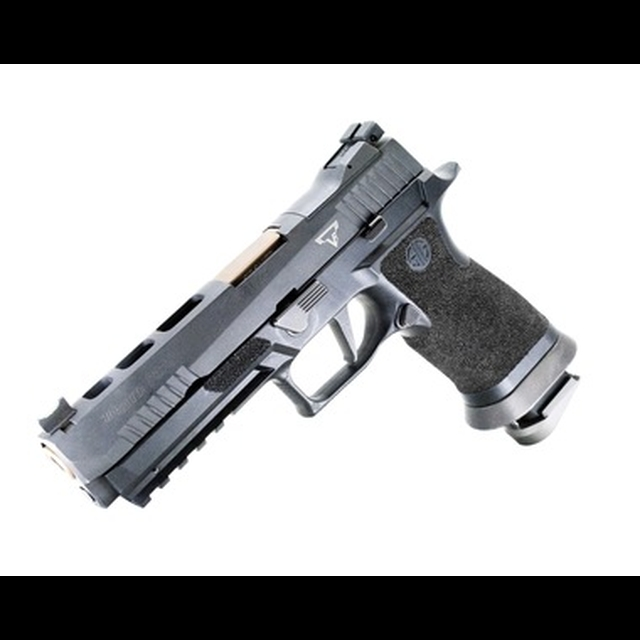SILAH: (17, 99, 600, 527)
